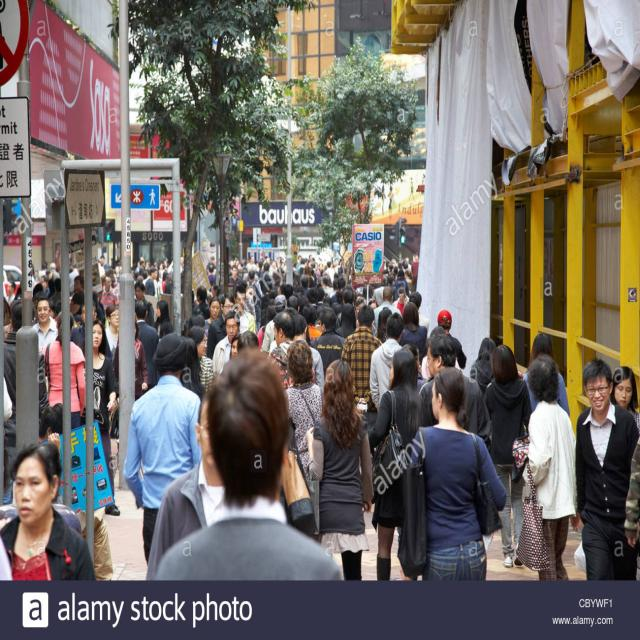body: (152, 344, 346, 581), (396, 364, 509, 580), (120, 330, 205, 570), (144, 388, 228, 582), (304, 357, 376, 582), (515, 353, 582, 581), (572, 355, 638, 582), (367, 346, 428, 583), (0, 442, 96, 582), (484, 344, 533, 570), (417, 329, 492, 452), (77, 316, 121, 518), (227, 246, 411, 292), (339, 303, 386, 438), (3, 297, 51, 426), (284, 339, 326, 481), (40, 310, 87, 435), (521, 332, 571, 421), (267, 309, 316, 391), (369, 310, 404, 412), (112, 315, 149, 404), (292, 313, 326, 407), (310, 306, 346, 382), (69, 298, 113, 359), (211, 308, 245, 383), (134, 298, 159, 394), (112, 252, 190, 280), (37, 398, 71, 461), (398, 302, 429, 369), (186, 324, 216, 393), (206, 292, 236, 361), (380, 173, 427, 217), (608, 364, 640, 427), (178, 336, 208, 402), (436, 309, 467, 370), (31, 294, 60, 359), (621, 441, 638, 550), (260, 292, 288, 353), (401, 342, 429, 401), (468, 336, 496, 392), (0, 530, 21, 602), (232, 284, 258, 337), (373, 285, 403, 330), (420, 327, 444, 380), (104, 304, 120, 371), (300, 302, 323, 346), (286, 290, 342, 308), (354, 296, 378, 337), (248, 268, 263, 333), (134, 281, 154, 328), (100, 274, 120, 321), (227, 329, 261, 356), (409, 291, 430, 334), (152, 299, 174, 340), (204, 296, 222, 337), (334, 288, 356, 321), (2, 373, 14, 433), (69, 275, 85, 317), (376, 306, 392, 345), (47, 262, 61, 305), (92, 290, 107, 329), (196, 284, 212, 320), (372, 276, 389, 307), (392, 288, 408, 318), (394, 268, 410, 298), (228, 264, 242, 298), (258, 262, 274, 291), (192, 309, 208, 336), (144, 266, 158, 296), (205, 262, 218, 294), (4, 279, 18, 307), (68, 291, 82, 317), (388, 274, 400, 304), (30, 278, 46, 300), (100, 254, 110, 280), (411, 252, 420, 280), (46, 277, 56, 302), (164, 274, 175, 296), (210, 283, 222, 302), (4, 297, 12, 325), (38, 261, 48, 283), (368, 298, 379, 314), (161, 270, 168, 294), (69, 263, 80, 275), (102, 267, 116, 275), (45, 267, 54, 279), (33, 268, 40, 280), (136, 273, 144, 283), (210, 254, 216, 264), (68, 262, 73, 272)
